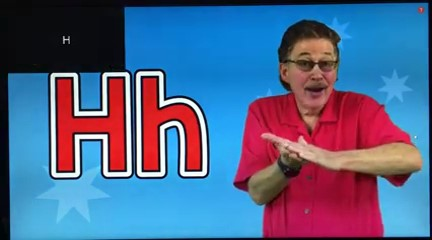H: (255, 127, 360, 184)
